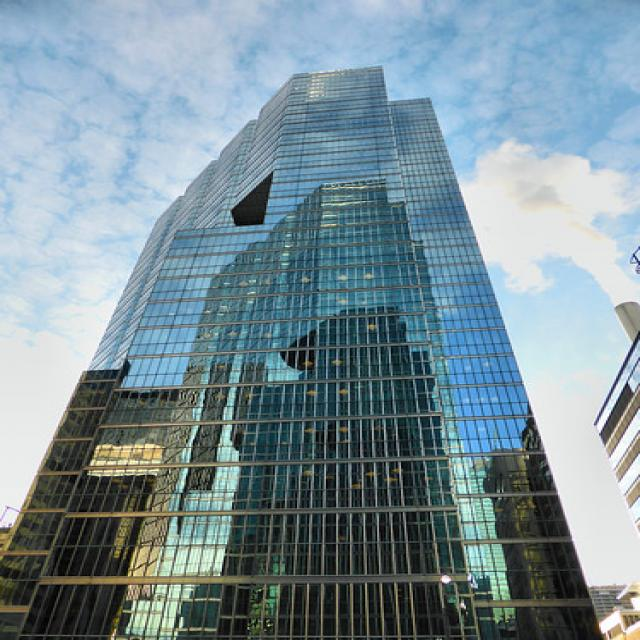Normal_building: (5, 61, 621, 640)
